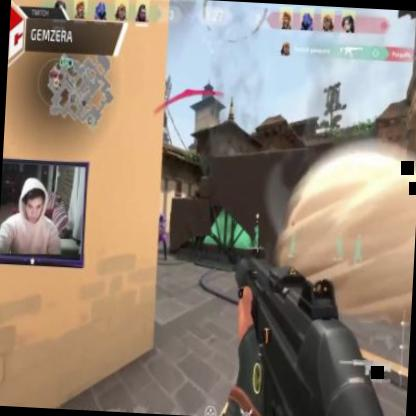enemy: (154, 212, 170, 262)
enemy_head: (158, 212, 164, 221)
